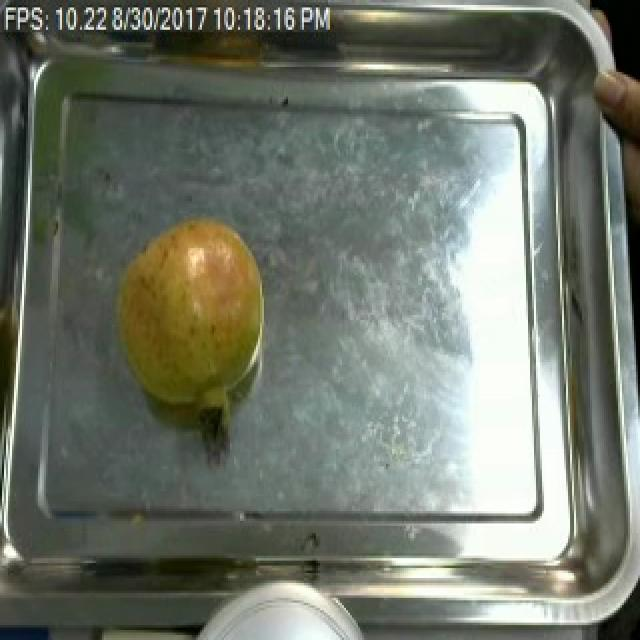fruit: (98, 201, 278, 432)
